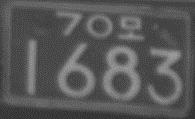0: (85, 13, 113, 38)
1: (16, 40, 50, 96)
3: (145, 47, 183, 106)
6: (57, 42, 96, 98)
7: (56, 10, 82, 36)
8: (101, 45, 140, 101)
모: (117, 15, 143, 41)
